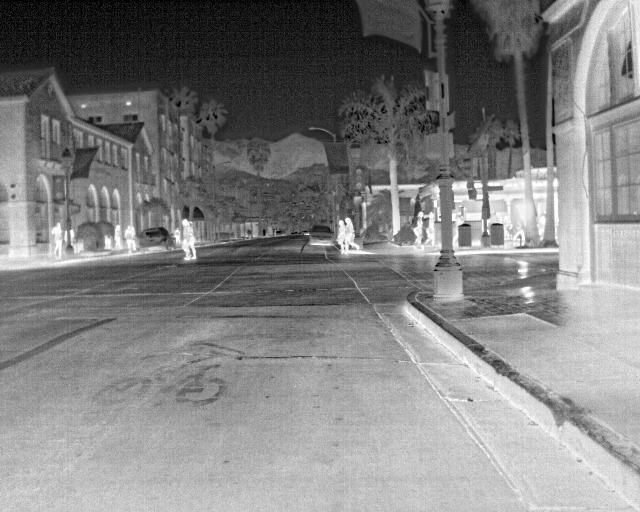bicycle: (136, 226, 178, 254), (305, 225, 337, 247)
empty: (180, 217, 198, 262), (344, 217, 361, 254), (411, 209, 425, 248), (422, 212, 437, 247), (51, 223, 63, 262), (335, 220, 347, 258), (122, 225, 136, 253), (113, 224, 125, 252)
